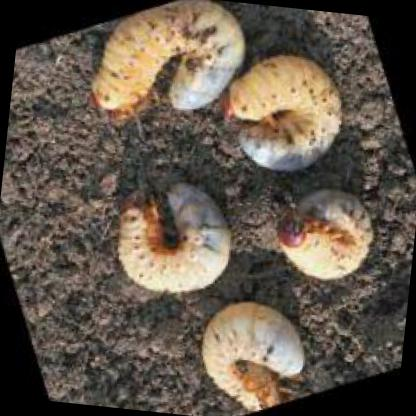root grubs: (217, 50, 342, 170), (116, 185, 233, 294), (199, 299, 309, 411), (280, 186, 372, 282)
